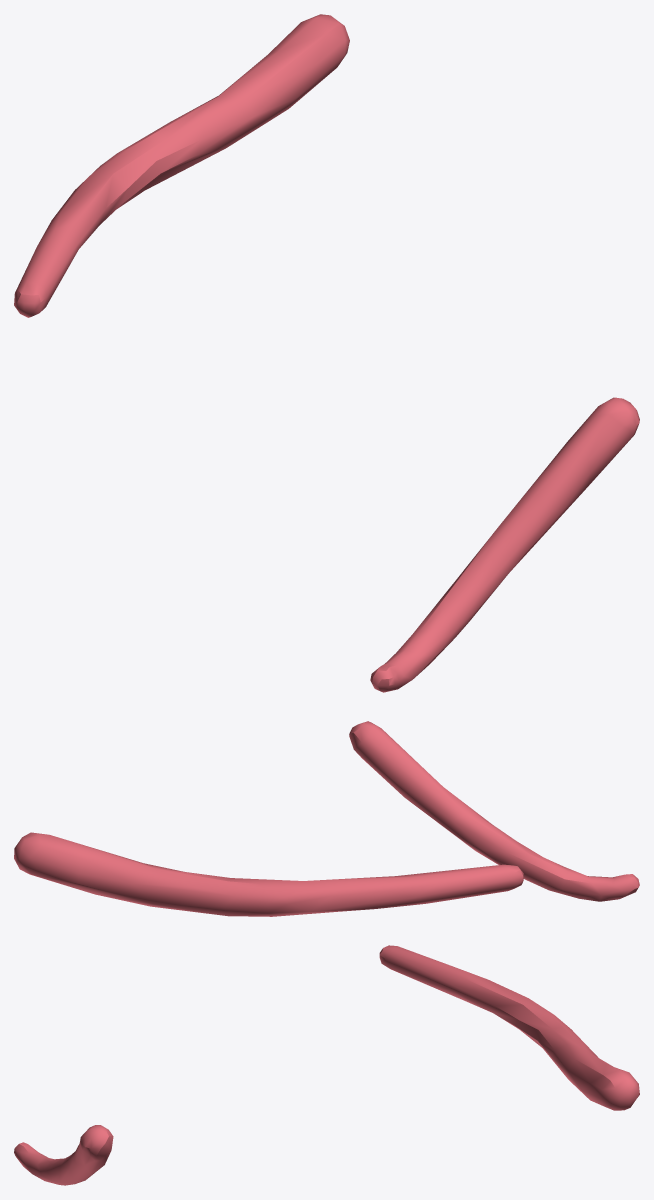
The model's file is fma49765_fj5153.glb.
3 renders of one model, top to bottom at view 1: azimuth 30°, elevation 25°; view 2: azimuth 150°, elevation 25°; view 3: azimuth 270°, elevation 25°, orthographic. The views are drawn at different scales.
Parts seen in each view (by area): view 1: FMA49765_FJ5153; view 2: FMA49765_FJ5153; view 3: FMA49765_FJ5153.
Part boxes in pixels (x1=…): FMA49765_FJ5153: x1=14, y1=14, x2=639, y2=692; FMA49765_FJ5153: x1=14, y1=721, x2=639, y2=916; FMA49765_FJ5153: x1=14, y1=945, x2=639, y2=1185.
Size of the model in its own units: 0.00797 by 0.00466 by 0.0122.
